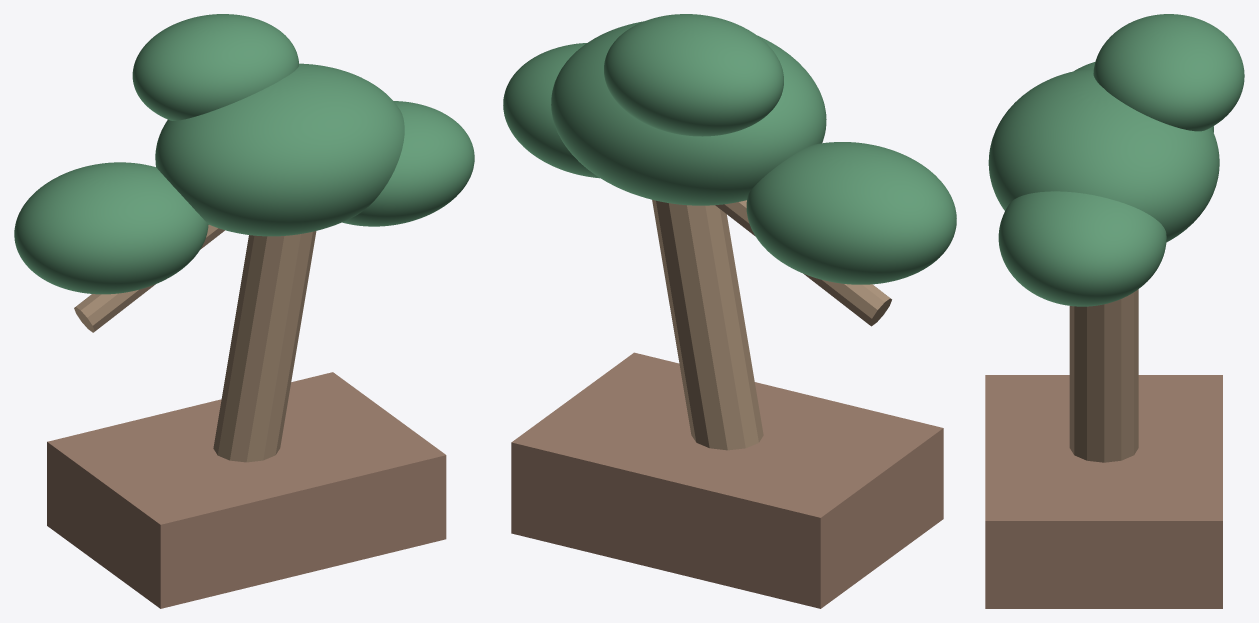
The model's file is bonsai_tree.glb.
The picture shows the model from 3 angles, left to right: view 1: azimuth 30°, elevation 25°; view 2: azimuth 150°, elevation 25°; view 3: azimuth 270°, elevation 25°; orthographic projection. The views are drawn at different scales.
Visible parts, largest first — view 1: Bonsai_Pot, Bonsai_Foliage_0, Bonsai_Foliage_1, Bonsai_Trunk, Bonsai_Foliage_3, Bonsai_Foliage_2, Bonsai_Branch; view 2: Bonsai_Pot, Bonsai_Foliage_1, Bonsai_Foliage_0, Bonsai_Trunk, Bonsai_Foliage_3, Bonsai_Foliage_2, Bonsai_Branch; view 3: Bonsai_Pot, Bonsai_Foliage_0, Bonsai_Foliage_2, Bonsai_Foliage_3, Bonsai_Trunk.
Boxes of the visible parts, bbox=[...] form: Bonsai_Pot: bbox=[47, 372, 446, 608]; Bonsai_Foliage_0: bbox=[155, 63, 404, 236]; Bonsai_Foliage_1: bbox=[14, 162, 208, 294]; Bonsai_Trunk: bbox=[213, 231, 316, 462]; Bonsai_Foliage_3: bbox=[132, 14, 298, 120]; Bonsai_Foliage_2: bbox=[342, 101, 474, 226]; Bonsai_Branch: bbox=[74, 225, 224, 332]; Bonsai_Pot: bbox=[511, 352, 943, 608]; Bonsai_Foliage_1: bbox=[746, 142, 956, 284]; Bonsai_Foliage_0: bbox=[551, 21, 826, 205]; Bonsai_Trunk: bbox=[652, 200, 763, 450]; Bonsai_Foliage_3: bbox=[604, 14, 783, 136]; Bonsai_Foliage_2: bbox=[503, 43, 599, 178]; Bonsai_Branch: bbox=[715, 200, 891, 326]; Bonsai_Pot: bbox=[985, 375, 1222, 608]; Bonsai_Foliage_0: bbox=[988, 68, 1219, 242]; Bonsai_Foliage_2: bbox=[998, 191, 1166, 306]; Bonsai_Foliage_3: bbox=[1093, 14, 1244, 131]; Bonsai_Trunk: bbox=[1069, 289, 1138, 462].
Size of the model in its own units: 0.2357 by 0.26 by 0.12.
